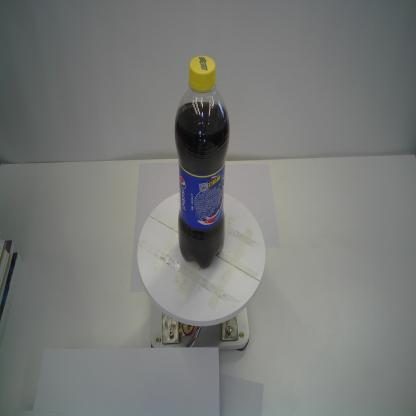Drink: (173, 53, 231, 270)
